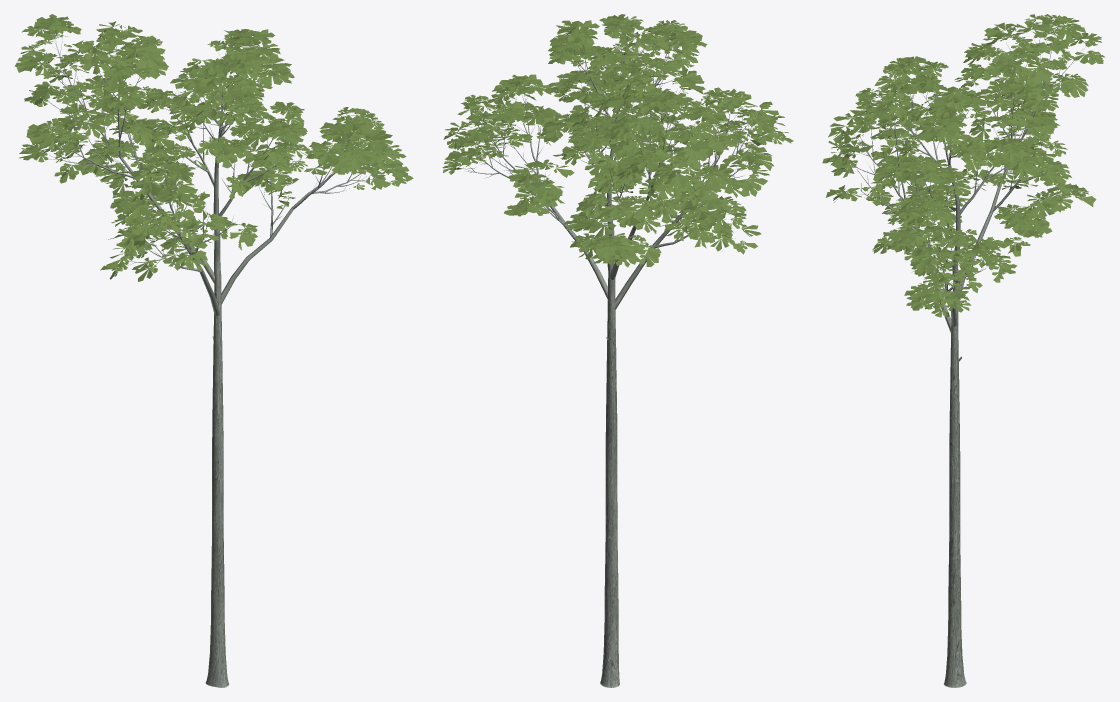
File: tree3.glb
3 renders of one model, left to right at view 1: azimuth 30°, elevation 25°; view 2: azimuth 150°, elevation 25°; view 3: azimuth 270°, elevation 25°, orthographic. The views are drawn at different scales.
Visible parts, largest first — view 1: StaticModelFinal_m_2.4, StaticModelFinal_m_1.3; view 2: StaticModelFinal_m_2.4, StaticModelFinal_m_1.3; view 3: StaticModelFinal_m_2.4, StaticModelFinal_m_1.3.
Part boxes in pixels (x1,y1,x2,y2): StaticModelFinal_m_2.4: [14, 14, 413, 281]; StaticModelFinal_m_1.3: [42, 32, 385, 687]; StaticModelFinal_m_2.4: [442, 14, 793, 267]; StaticModelFinal_m_1.3: [462, 32, 768, 687]; StaticModelFinal_m_2.4: [822, 14, 1105, 317]; StaticModelFinal_m_1.3: [843, 26, 1085, 687].
Size of the model in its own units: 3489 by 6536 by 2728.
Materials: 2 (1 with a texture image).
